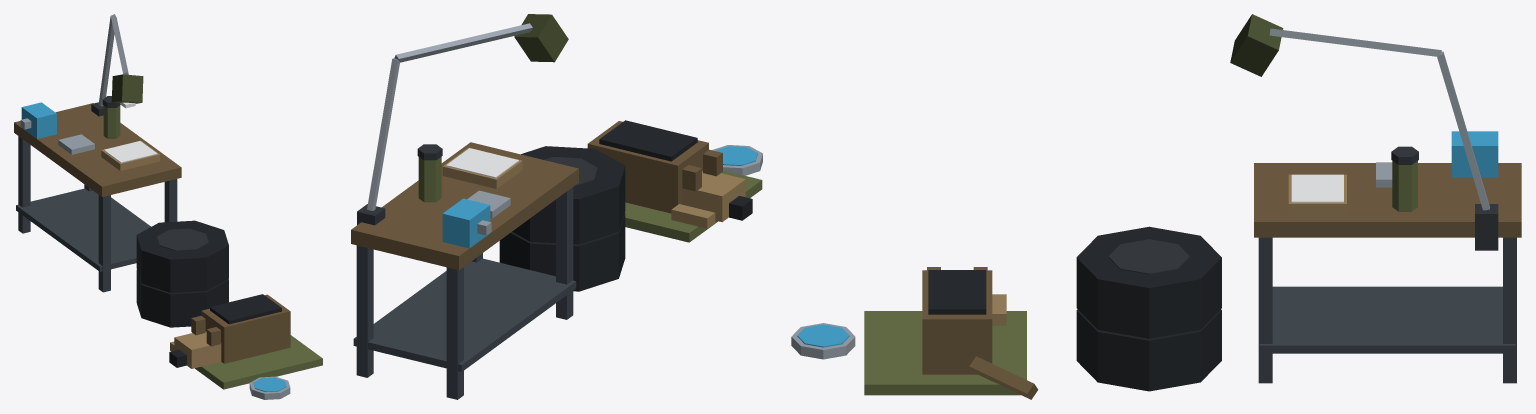
The model's file is prop_vendor_motor_pool.fbx.
The picture shows the model from 3 angles, left to right: view 1: azimuth 30°, elevation 25°; view 2: azimuth 150°, elevation 25°; view 3: azimuth 270°, elevation 25°; orthographic projection. The views are drawn at different scales.
Visible parts, largest first — view 1: prop_vendor_motor_pool; view 2: prop_vendor_motor_pool; view 3: prop_vendor_motor_pool.
Boxes of the visible parts, left/top/right/bottom form: prop_vendor_motor_pool: left=14, top=14, right=322, bottom=399; prop_vendor_motor_pool: left=351, top=14, right=762, bottom=399; prop_vendor_motor_pool: left=791, top=14, right=1521, bottom=399.
Size of the model in its own units: 412 by 628 by 1255.
